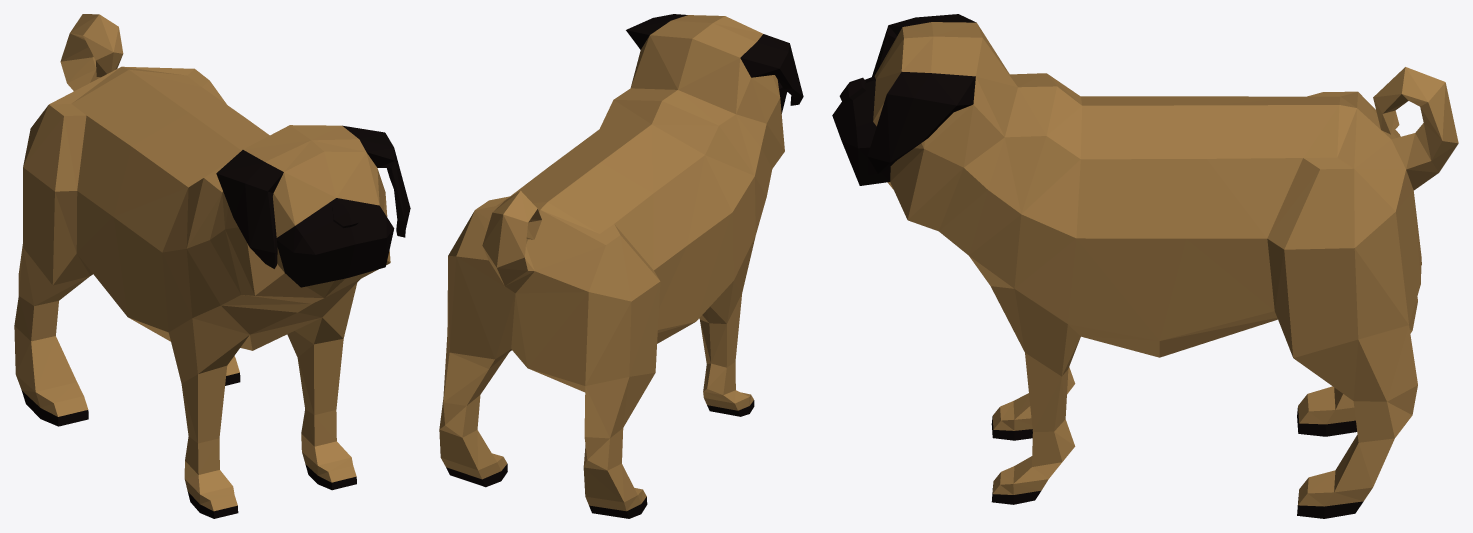
Rendered from Pug.obj.
The picture shows the model from 3 angles, left to right: view 1: azimuth 30°, elevation 25°; view 2: azimuth 150°, elevation 25°; view 3: azimuth 270°, elevation 25°; orthographic projection. The views are drawn at different scales.
Parts seen in each view (by area): view 1: Pug; view 2: Pug; view 3: Pug.
Boxes of the visible parts, left/top/right/bottom form: Pug: left=14, top=14, right=410, bottom=518; Pug: left=439, top=14, right=803, bottom=518; Pug: left=832, top=14, right=1458, bottom=518.
Size of the model in its own units: 1.45 by 2.65 by 3.5.
